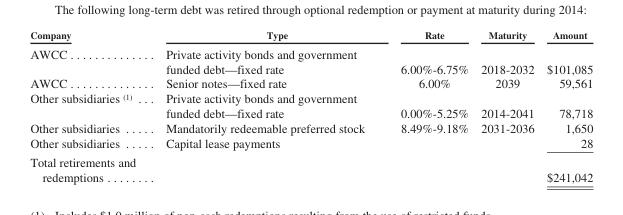table: (29, 28, 592, 183)
table column: (150, 28, 382, 183), (29, 28, 150, 183), (382, 28, 474, 183), (474, 28, 539, 183), (539, 28, 592, 183)
table column header: (29, 28, 592, 43)
table row: (29, 43, 592, 75), (29, 152, 592, 183), (29, 90, 592, 120), (29, 135, 592, 152), (29, 28, 592, 43), (29, 75, 592, 90), (29, 120, 592, 135)
